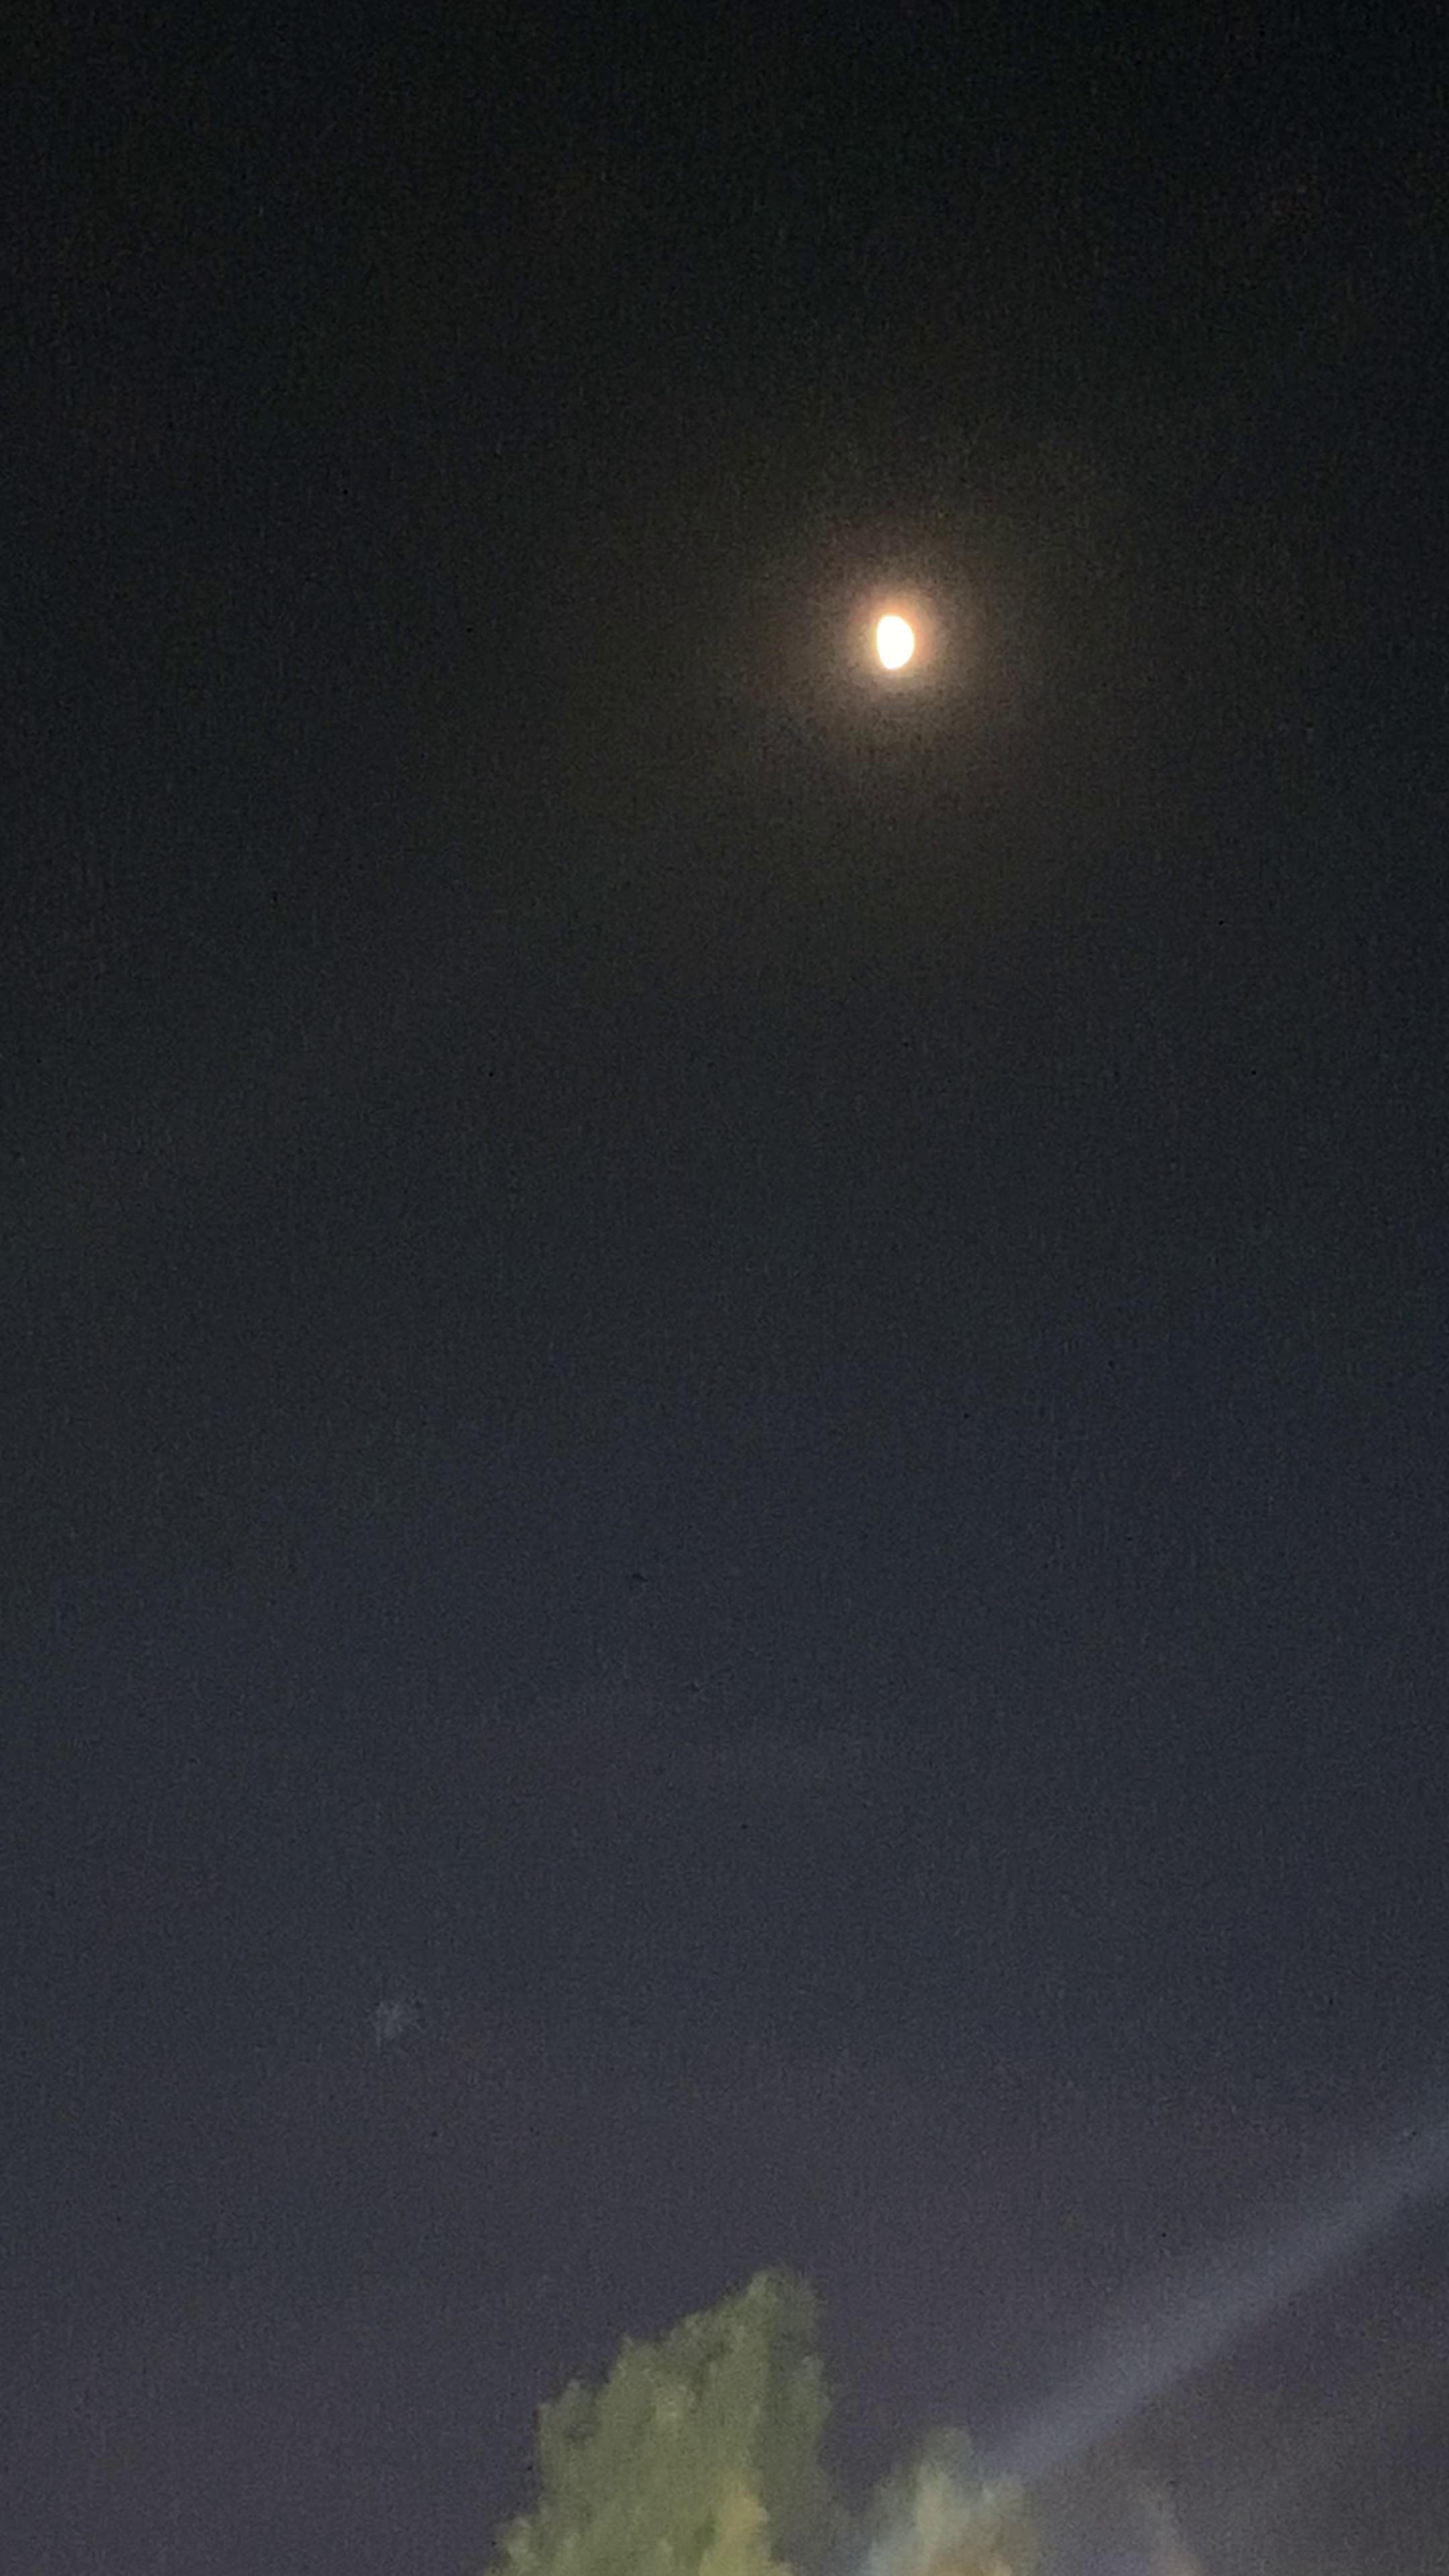moon: (846, 563, 962, 690)
